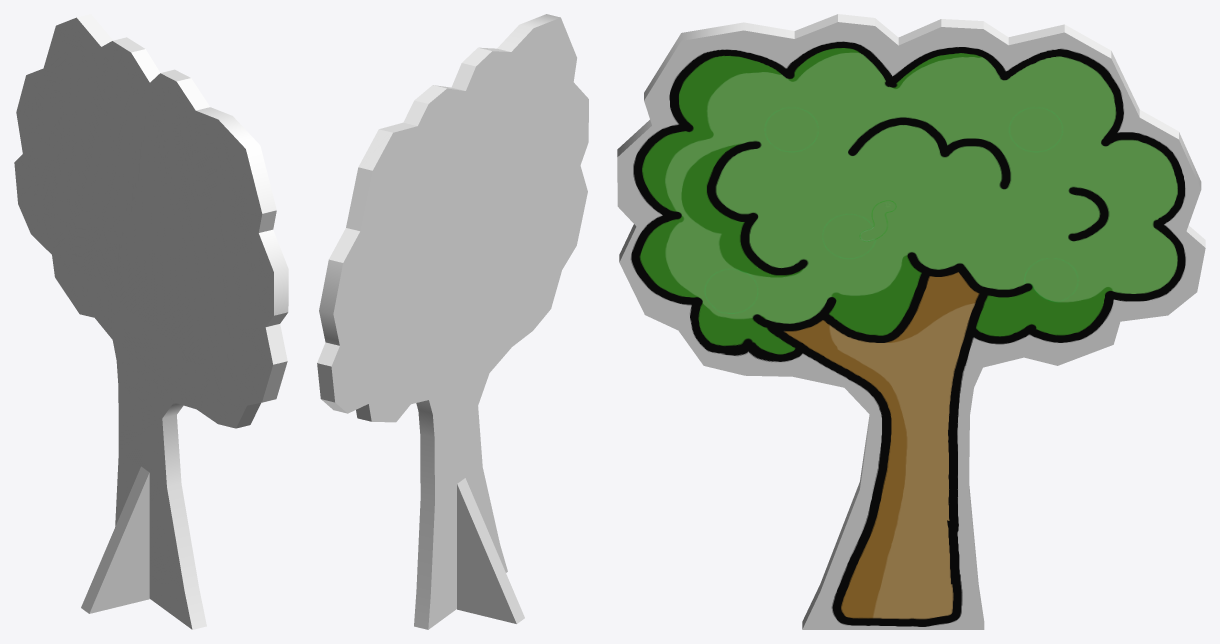
The model's file is tree 2.fbx.
The picture shows the model from 3 angles, left to right: view 1: azimuth 30°, elevation 25°; view 2: azimuth 150°, elevation 25°; view 3: azimuth 270°, elevation 25°; orthographic projection. The views are drawn at different scales.
Visible parts, largest first — view 1: pCube16, pCube34; view 2: pCube16, pCube34; view 3: pCube16.
Part boxes in pixels (x1,y1,x2,y2): pCube16: (14, 14, 288, 629); pCube34: (81, 466, 149, 613); pCube16: (317, 14, 588, 629); pCube34: (457, 478, 524, 623); pCube16: (617, 14, 1205, 629).
Size of the model in its own units: 2.57 by 17.67 by 15.48.
